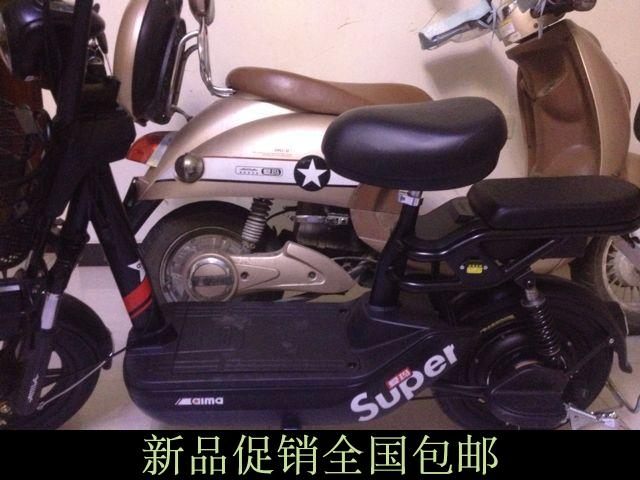电动车: (12, 15, 636, 417), (99, 2, 640, 307)
